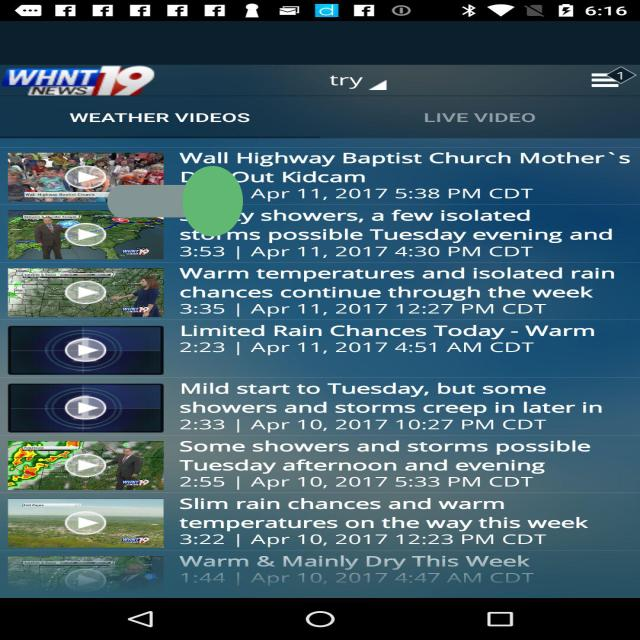social proof: (107, 123, 243, 280)
